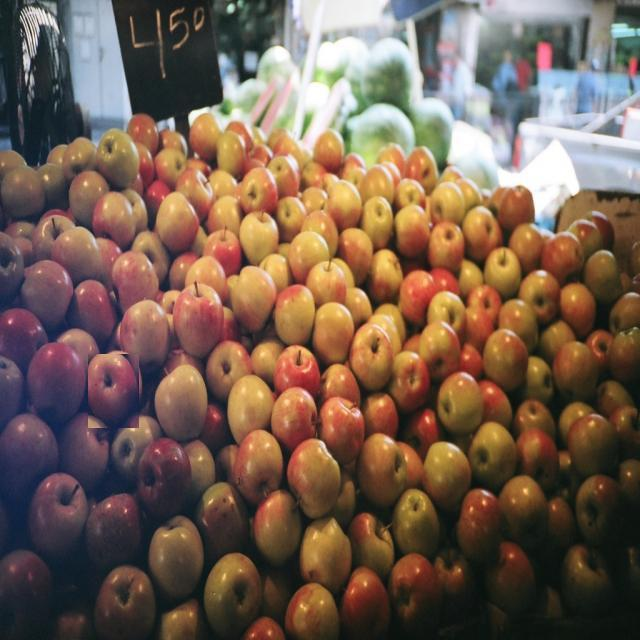Apple: (0, 110, 640, 640), (88, 354, 139, 428)
